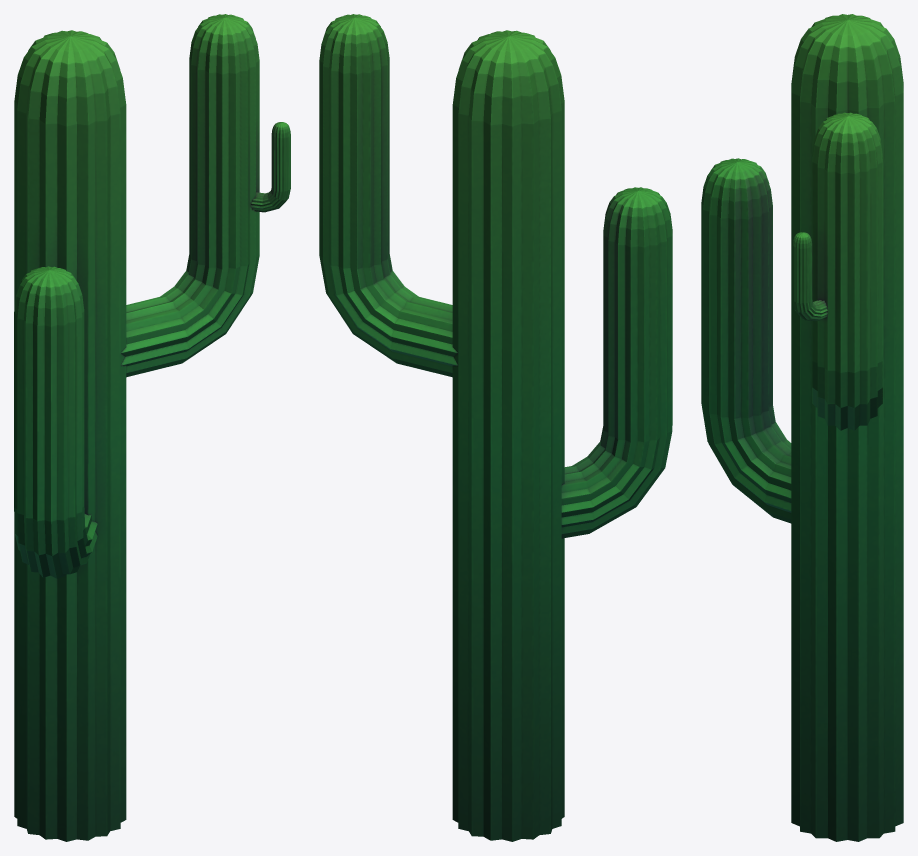
The model's file is cactus1.fbx.
3 views of the same model, side by side, from view 1: azimuth 30°, elevation 25°; view 2: azimuth 150°, elevation 25°; view 3: azimuth 270°, elevation 25° (orthographic). The views are drawn at different scales.
Visible parts, largest first — view 1: polySurface4; view 2: polySurface4; view 3: polySurface4.
Boxes of the visible parts, <box> form: polySurface4: <box>14,14,290,841</box>; polySurface4: <box>319,14,672,841</box>; polySurface4: <box>701,14,903,841</box>.
Bounding box in the file's own units: 9.05 × 22.34 × 5.14.
